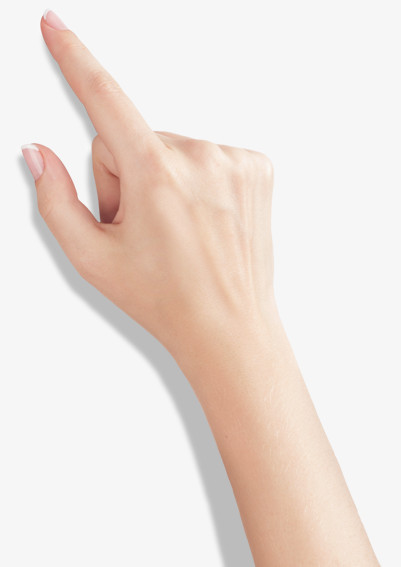no-phone: (10, 4, 320, 383)
